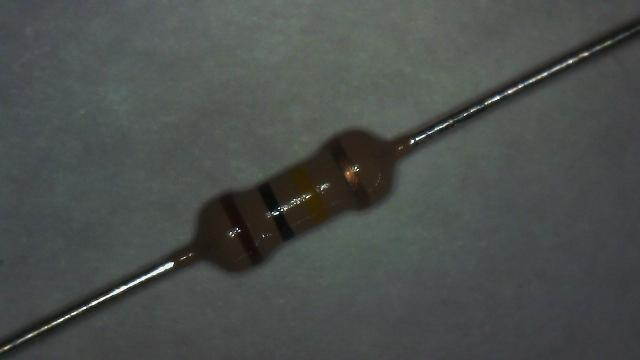black: (258, 183, 294, 244)
brown: (224, 199, 256, 260)
gold: (334, 138, 368, 204)
resistor: (152, 104, 420, 319)
yellow: (294, 166, 324, 224)
